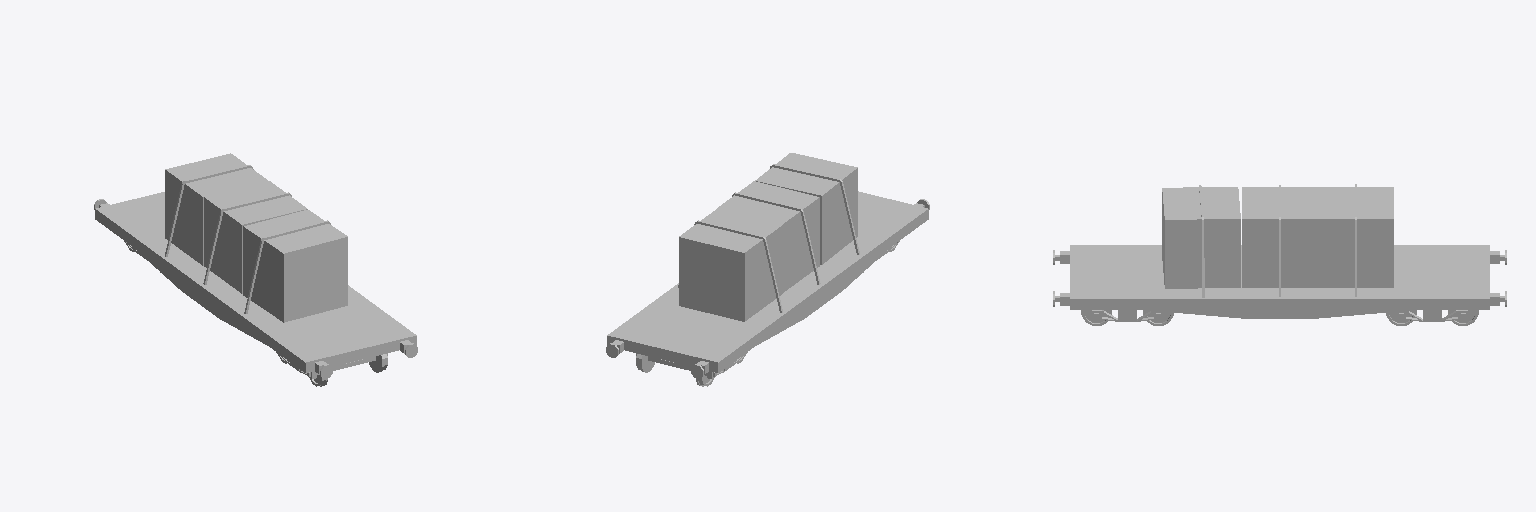
The model's file is dlxtrains_industrial_wagons_flat_type1_loaded3.obj.
The picture shows the model from 3 angles: view 1: azimuth 30°, elevation 25°; view 2: azimuth 150°, elevation 25°; view 3: azimuth 270°, elevation 25°; orthographic projection.
Parts seen in each view (by area): view 1: dlxtrains_industrial_wagons_flat_type1_loaded3; view 2: dlxtrains_industrial_wagons_flat_type1_loaded3; view 3: dlxtrains_industrial_wagons_flat_type1_loaded3.
Part boxes in pixels (x1,y1,x2,y2): dlxtrains_industrial_wagons_flat_type1_loaded3: (94,153,417,386); dlxtrains_industrial_wagons_flat_type1_loaded3: (606,153,929,386); dlxtrains_industrial_wagons_flat_type1_loaded3: (1053,184,1506,325).
Size of the model in its own units: 16.88 by 15.98 by 59.62.